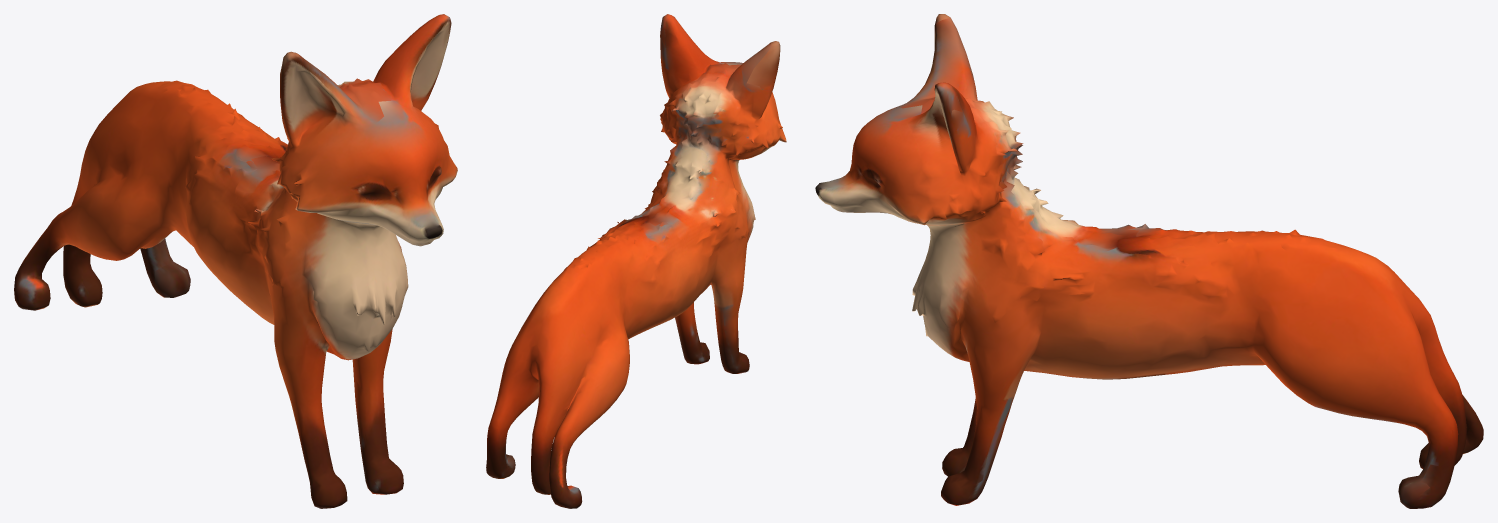
The model's file is jiuweihu-notail-BVM4IyXt.glb.
The picture shows the model from 3 angles, left to right: view 1: azimuth 30°, elevation 25°; view 2: azimuth 150°, elevation 25°; view 3: azimuth 270°, elevation 25°; orthographic projection. The views are drawn at different scales.
Parts seen in each view (by area): view 1: tripo_node_49c725df-4847-4883-90f3-950f92e0b0f4; view 2: tripo_node_49c725df-4847-4883-90f3-950f92e0b0f4; view 3: tripo_node_49c725df-4847-4883-90f3-950f92e0b0f4.
Part boxes in pixels (x1,y1,x2,y2): tripo_node_49c725df-4847-4883-90f3-950f92e0b0f4: [14, 14, 457, 508]; tripo_node_49c725df-4847-4883-90f3-950f92e0b0f4: [486, 14, 786, 508]; tripo_node_49c725df-4847-4883-90f3-950f92e0b0f4: [815, 14, 1483, 508].
Bounding box in the file's own units: 0.1882 × 0.5049 × 0.6964.
Materials: 1 (1 with a texture image).
